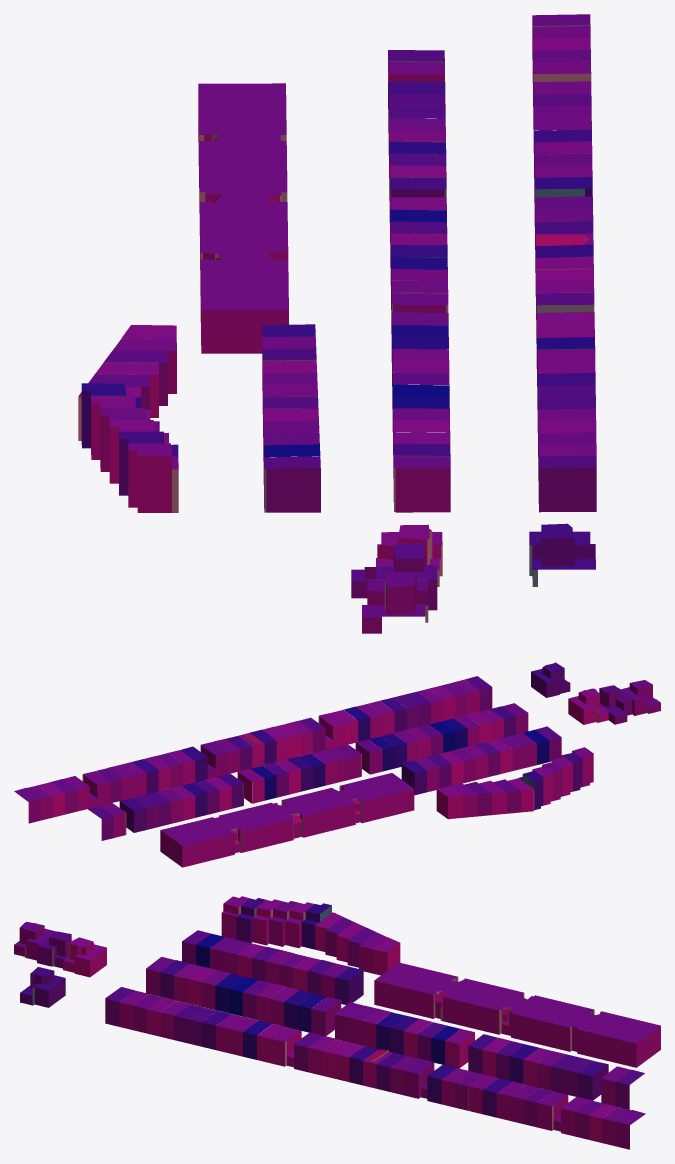
File: buildings_3_8.glb
3 renders of one model, top to bottom at view 1: azimuth 30°, elevation 25°; view 2: azimuth 150°, elevation 25°; view 3: azimuth 270°, elevation 25°, orthographic. The views are drawn at different scales.
Parts seen in each view (by area): view 1: buildings_3_8; view 2: buildings_3_8; view 3: buildings_3_8.
Boxes of the visible parts, <box> form: buildings_3_8: <box>78,14,596,633</box>; buildings_3_8: <box>14,662,660,867</box>; buildings_3_8: <box>14,896,660,1149</box>.
Bounding box in the file's own units: 169 × 11.51 × 209.
